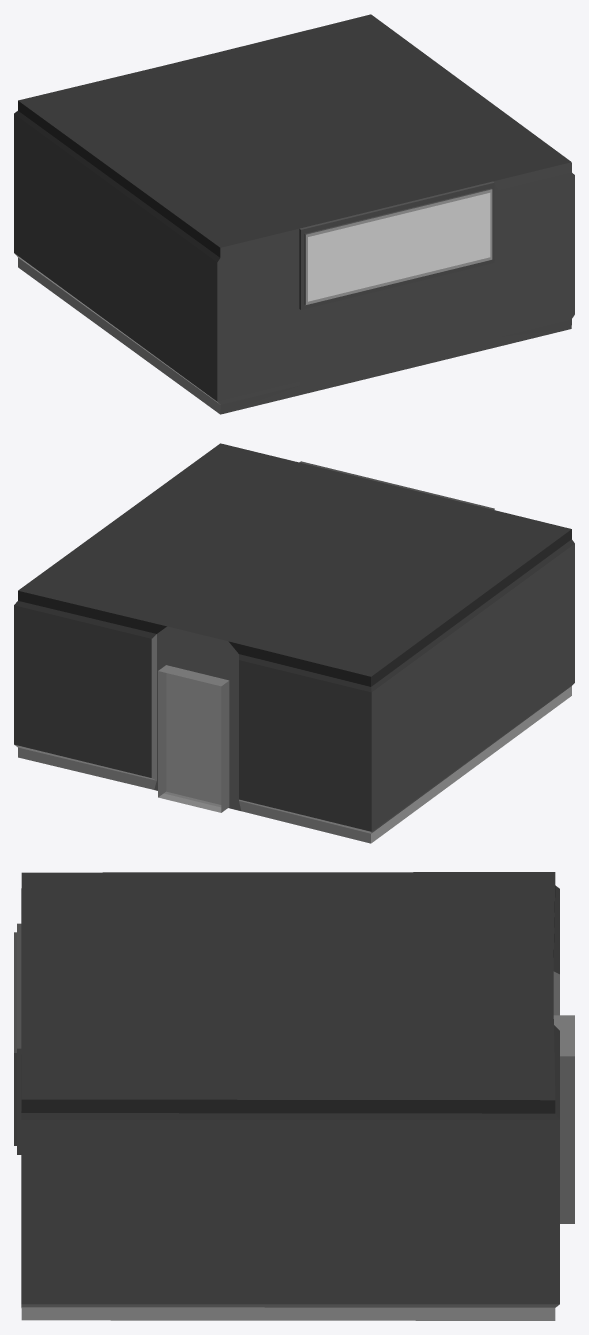
File: StudyRoomModel.fbx
The picture shows the model from 3 angles, top to bottom: view 1: azimuth 30°, elevation 25°; view 2: azimuth 150°, elevation 25°; view 3: azimuth 270°, elevation 25°; orthographic projection. The views are drawn at different scales.
Visible parts, largest first — view 1: StudyRoomModel; view 2: StudyRoomModel; view 3: StudyRoomModel.
Part boxes in pixels (box(x1,y1,x2,y2)): StudyRoomModel: box(14, 14, 574, 414); StudyRoomModel: box(14, 443, 574, 843); StudyRoomModel: box(14, 872, 574, 1320).
Size of the model in its own units: 671 by 299 by 689.
